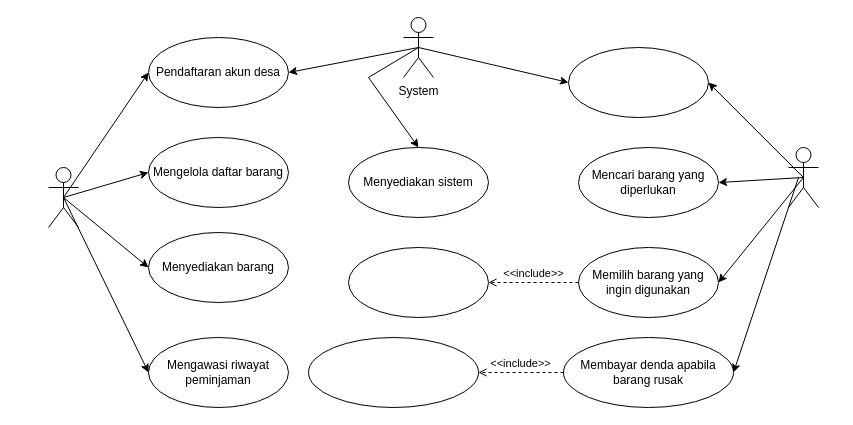
Image size: 853x425. Some labels were removed from this diagram. The shapes that lost their labels are listed below. From the top down, each one's centre as x and y in pixels, then its label:
At pixel 638 82: "Registrasi".
At pixel 63 197: "Kepala Desa dan Perangkat Desa".
At pixel 803 177: "Warga Desa".
At pixel 418 282: "Mengisi tanggal untuk meminjam barang".
At pixel 393 372: "Mengonfirmasi apabila sudah membayar".
